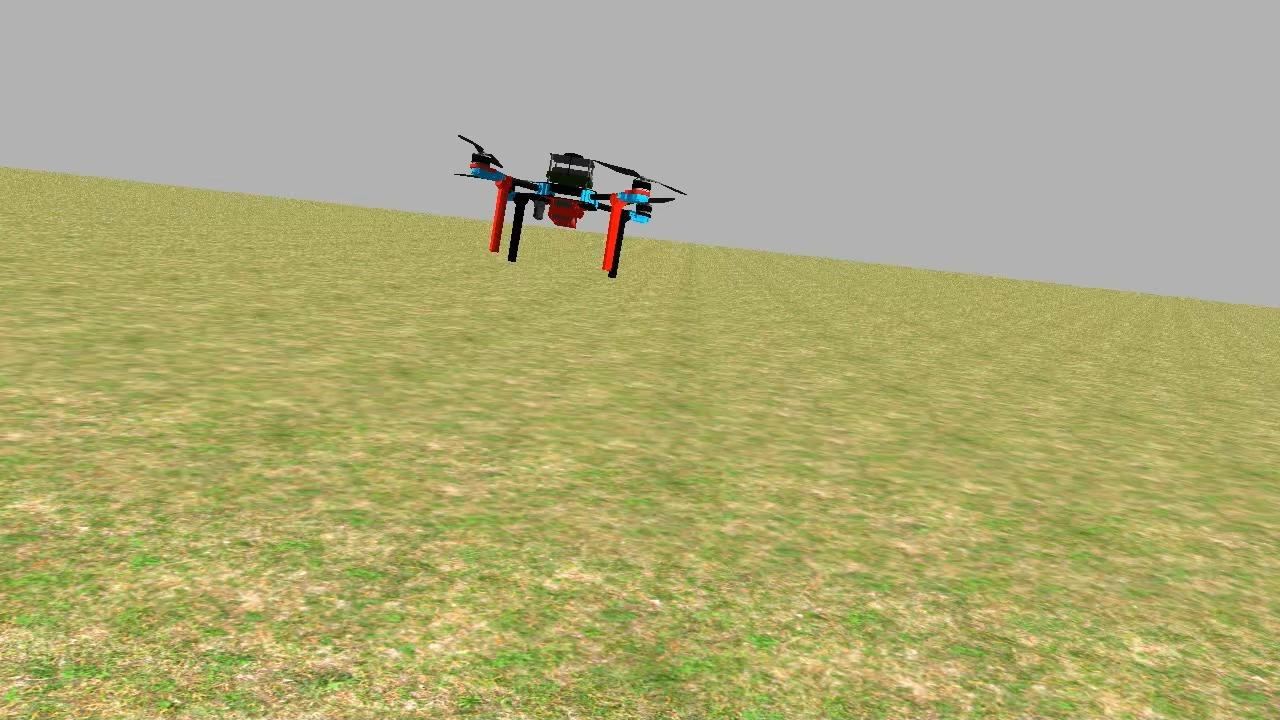UAV: (456, 141, 664, 287)
